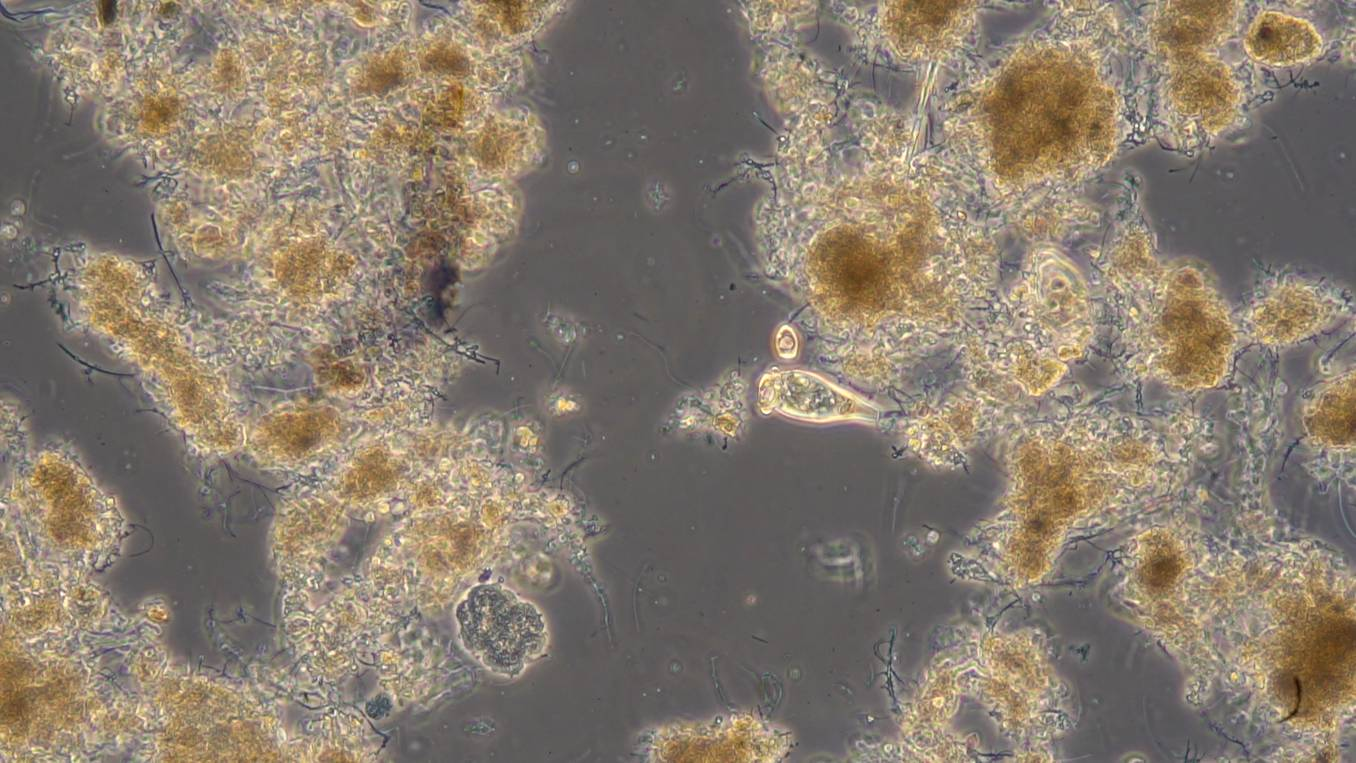Tardigrade: (292, 73, 488, 414)
